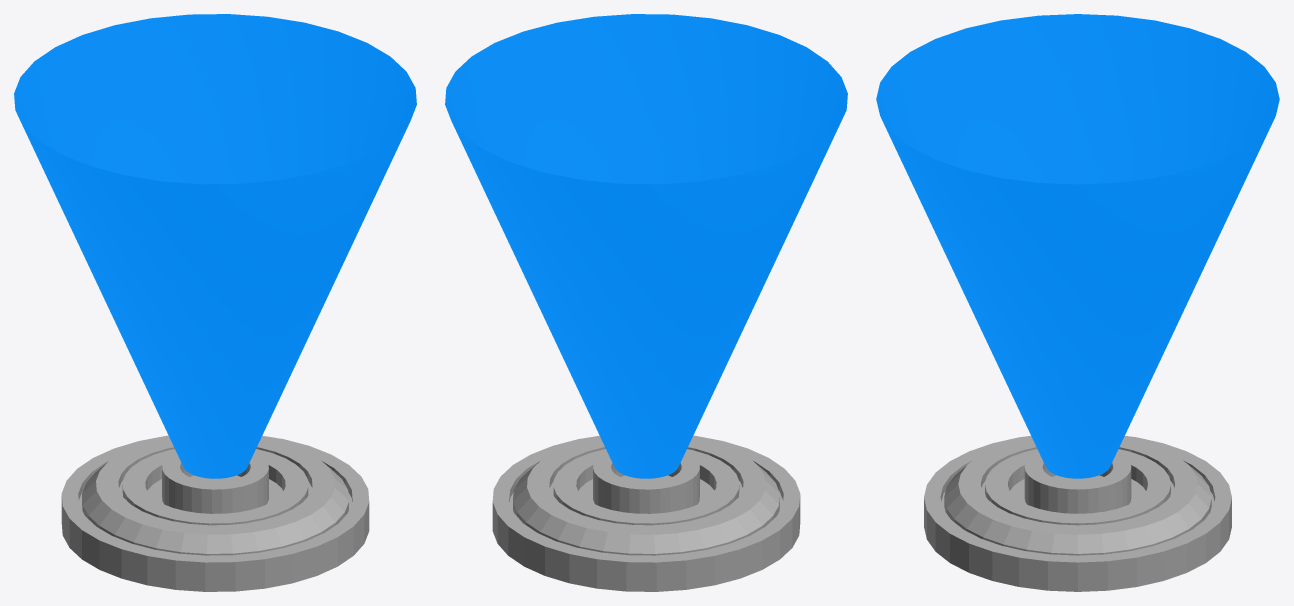
The model's file is HologramPedestal.glb.
3 renders of one model, left to right at view 1: azimuth 30°, elevation 25°; view 2: azimuth 150°, elevation 25°; view 3: azimuth 270°, elevation 25°, orthographic.
Visible parts, largest first — view 1: Cylinder, Pedestal; view 2: Cylinder, Pedestal; view 3: Cylinder, Pedestal.
Boxes of the visible parts, <box> form: Cylinder: <box>14,14,416,478</box>; Pedestal: <box>61,435,369,591</box>; Cylinder: <box>445,14,847,478</box>; Pedestal: <box>492,435,800,591</box>; Cylinder: <box>876,14,1279,478</box>; Pedestal: <box>924,436,1231,591</box>.
Size of the model in its own units: 2.62 by 3.06 by 2.62.
